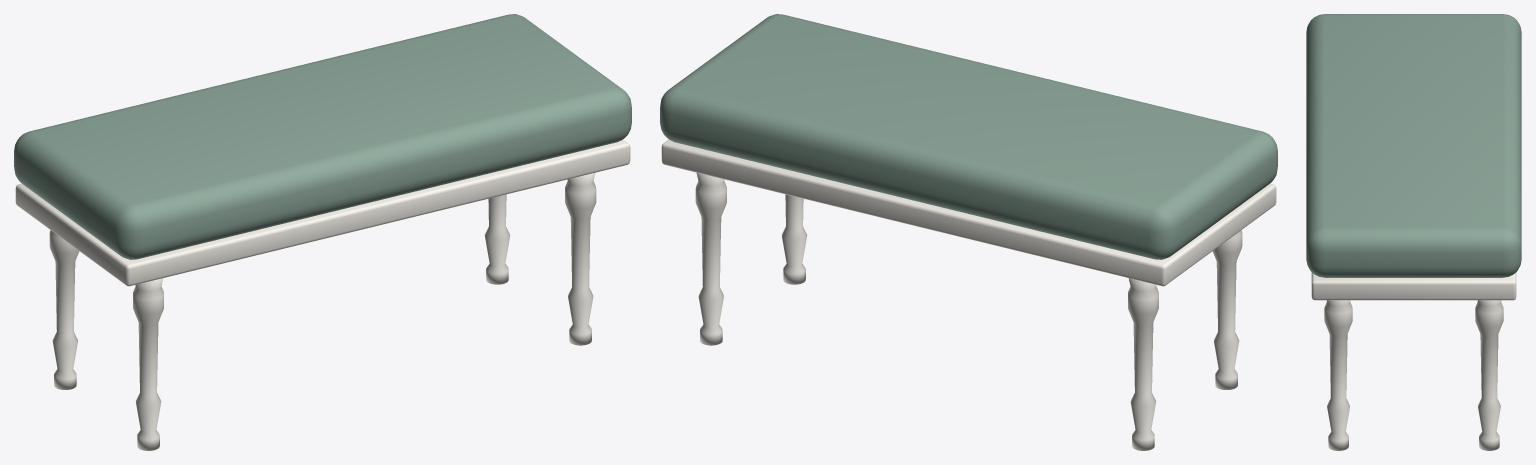
Rendered from bench.glb.
The picture shows the model from 3 angles, left to right: view 1: azimuth 30°, elevation 25°; view 2: azimuth 150°, elevation 25°; view 3: azimuth 270°, elevation 25°; orthographic projection. The views are drawn at different scales.
Parts seen in each view (by area): view 1: seat, frame, leg.002, leg, leg.001, leg.003; view 2: seat, frame, leg.003, leg.001, leg, leg.002; view 3: seat, frame, leg.002, leg.003.
Boxes of the visible parts, bbox=[...] form: seat: bbox=[14, 14, 631, 259]; frame: bbox=[15, 139, 630, 286]; leg.002: bbox=[565, 173, 596, 345]; leg: bbox=[133, 278, 163, 450]; leg.001: bbox=[49, 230, 79, 389]; leg.003: bbox=[484, 194, 509, 284]; seat: bbox=[660, 14, 1277, 259]; frame: bbox=[661, 139, 1276, 286]; leg.003: bbox=[695, 173, 726, 345]; leg.001: bbox=[1128, 278, 1158, 450]; leg: bbox=[1212, 230, 1242, 389]; leg.002: bbox=[782, 194, 807, 284]; seat: bbox=[1306, 14, 1521, 277]; frame: bbox=[1311, 272, 1516, 300]; leg.002: bbox=[1324, 300, 1352, 450]; leg.003: bbox=[1475, 300, 1503, 450].
Size of the model in its own units: 1 by 0.47 by 0.4.
